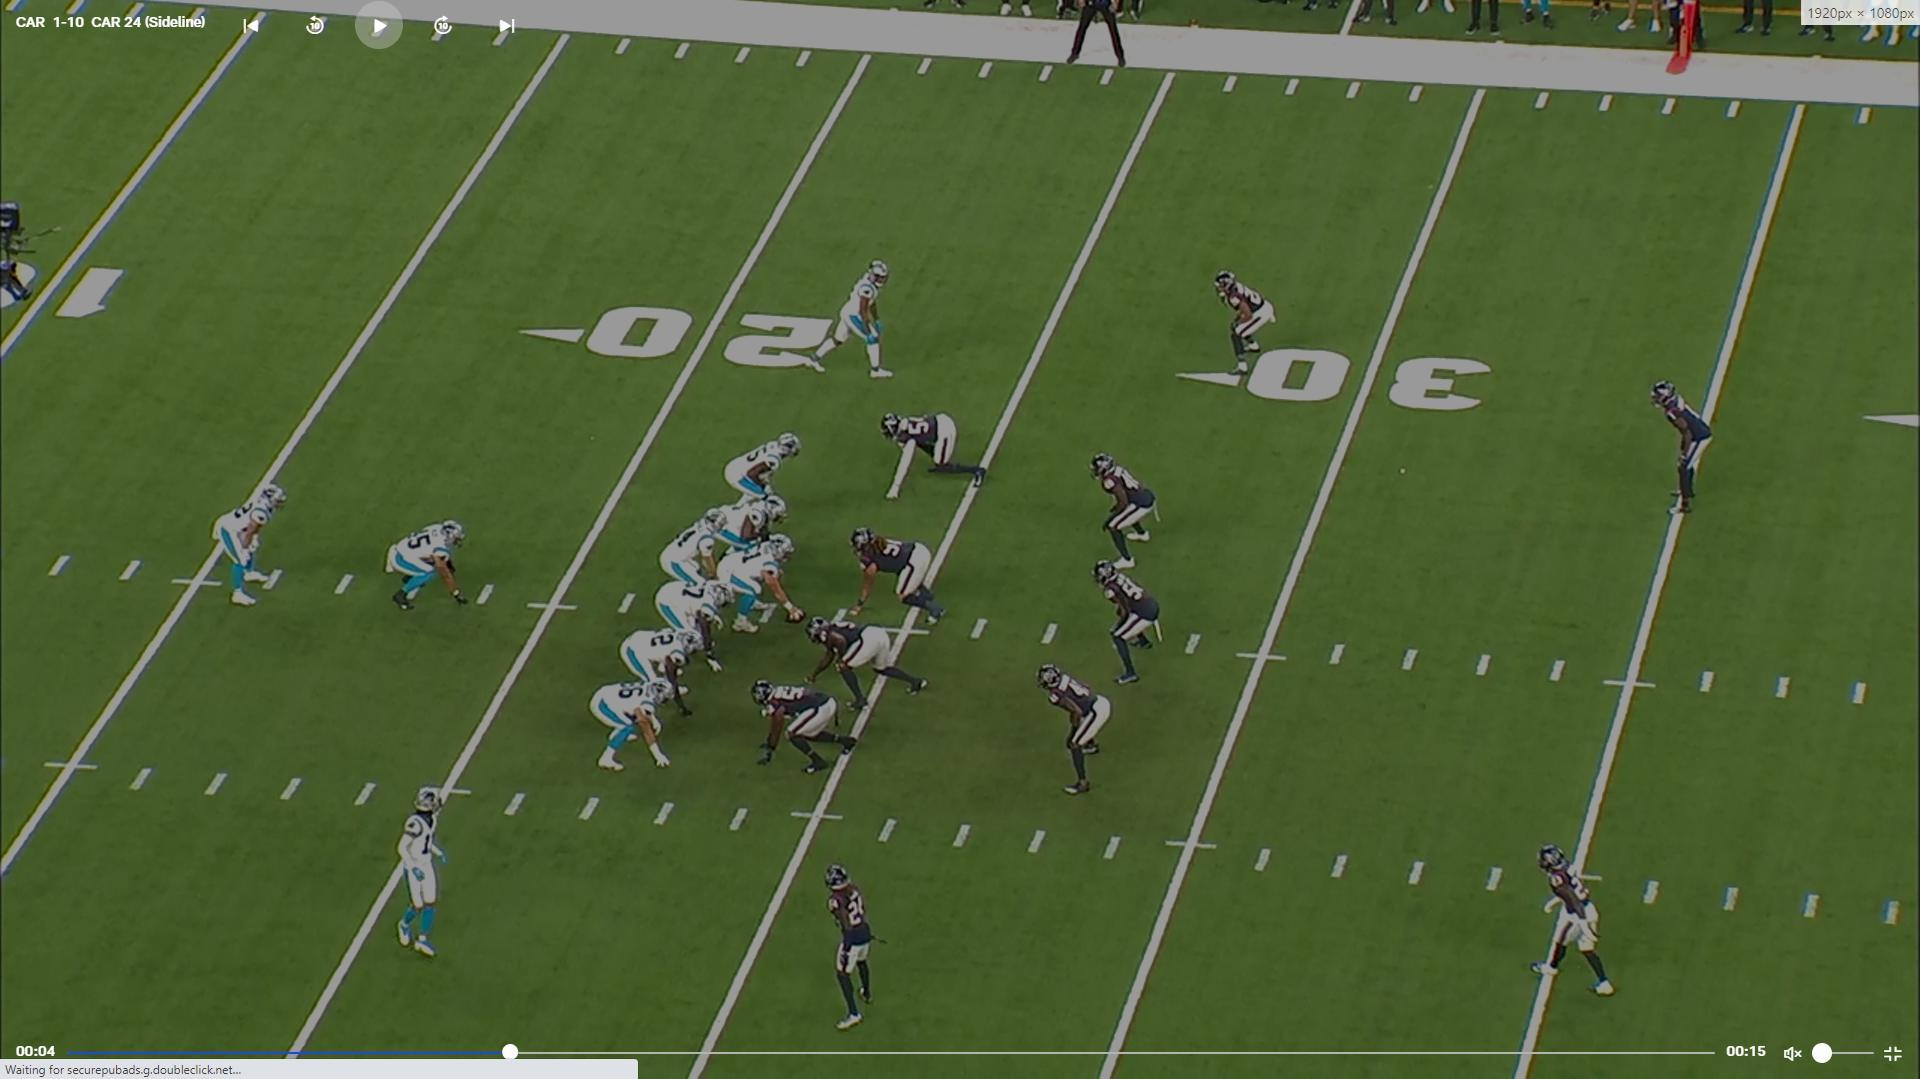defense: (1535, 839, 1627, 1006), (820, 863, 889, 1035), (804, 611, 930, 703), (752, 674, 864, 777), (847, 530, 951, 634), (873, 410, 988, 504), (1039, 661, 1114, 799), (1091, 558, 1159, 686), (1652, 373, 1714, 514), (1091, 450, 1155, 572), (1217, 265, 1280, 377)
oline: (723, 536, 811, 634), (617, 624, 705, 719), (658, 575, 744, 671), (721, 429, 800, 501), (705, 496, 793, 554)
qb: (666, 503, 740, 586)
ref: (1059, 0, 1133, 70)
skill: (390, 787, 459, 967), (803, 255, 895, 383), (212, 476, 286, 611), (589, 677, 679, 778), (385, 514, 471, 611)
